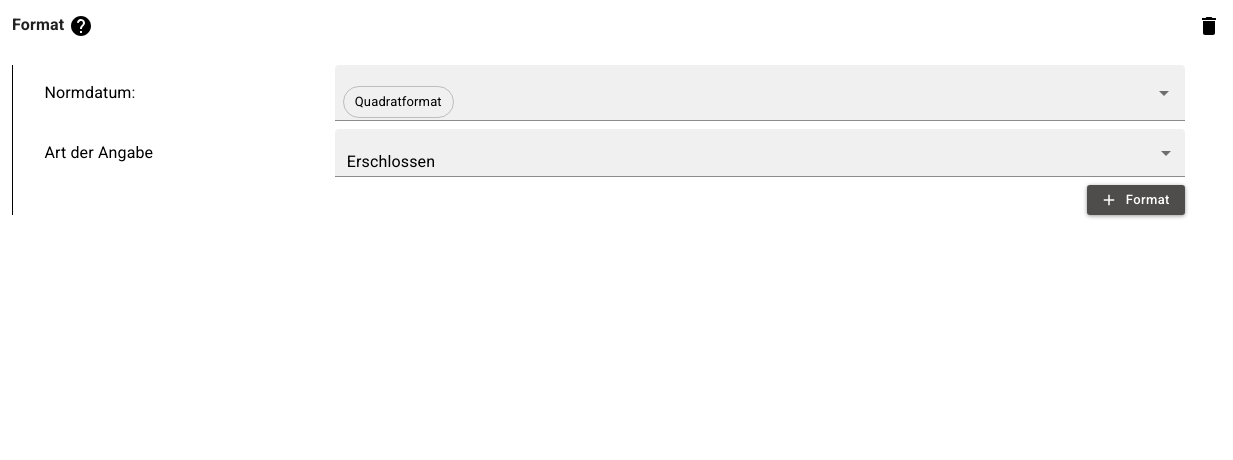
Test case: Format › without error › offers beschreibstoff for selection
Click the 1st dropdown: click(787, 102) x1=454 y1=84 x2=1120 y2=120
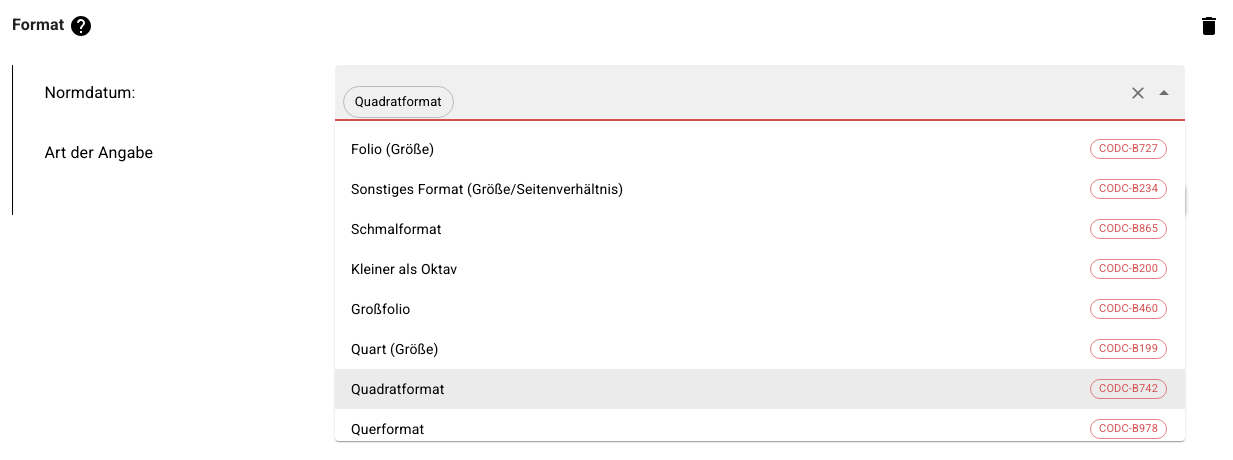
Expected: the option "Großfolio CODC-B460" is shown, x1=351 y1=299 x2=1167 y2=319
